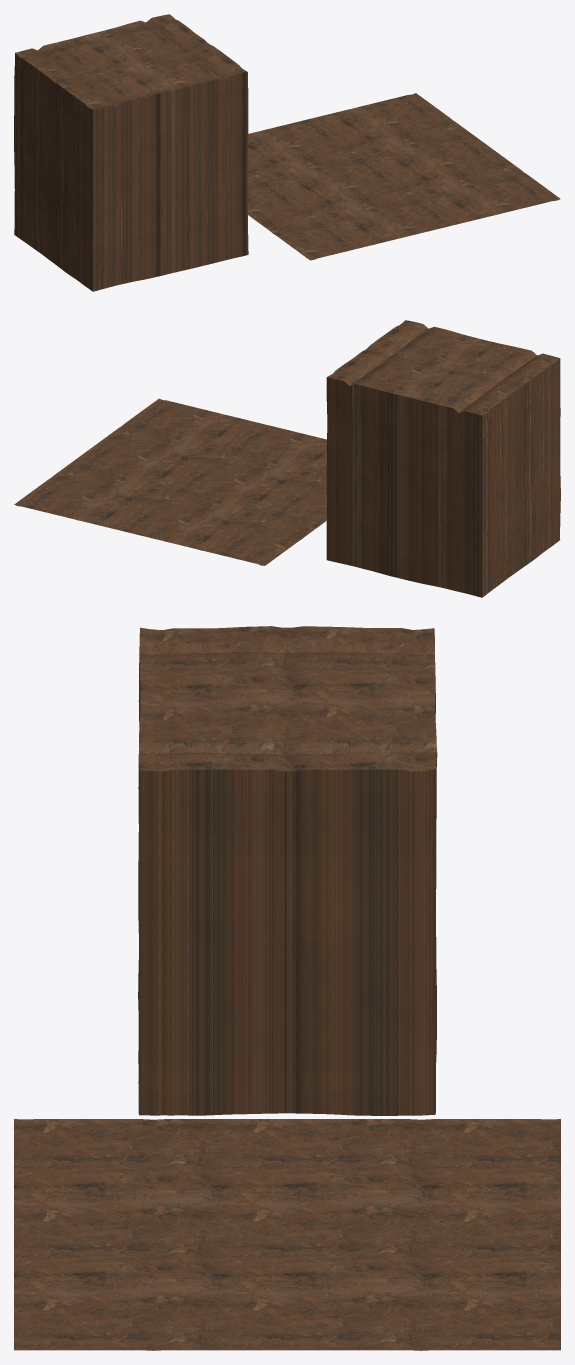
The model's file is weathering.glb.
3 renders of one model, top to bottom at view 1: azimuth 30°, elevation 25°; view 2: azimuth 150°, elevation 25°; view 3: azimuth 270°, elevation 25°, orthographic. The views are drawn at different scales.
Visible parts, largest first — view 1: Weathering_Tor, Weathering_Pavement; view 2: Weathering_Tor, Weathering_Pavement; view 3: Weathering_Tor, Weathering_Pavement.
Boxes of the visible parts, x1,y1,x2,y2 form: Weathering_Tor: [14, 14, 248, 291]; Weathering_Pavement: [247, 93, 560, 260]; Weathering_Tor: [326, 320, 560, 597]; Weathering_Pavement: [14, 398, 326, 565]; Weathering_Tor: [138, 626, 437, 1115]; Weathering_Pavement: [14, 1119, 560, 1350].
Size of the model in its own units: 4.51 by 1.83 by 2.6.
2 materials, 2 textured.
